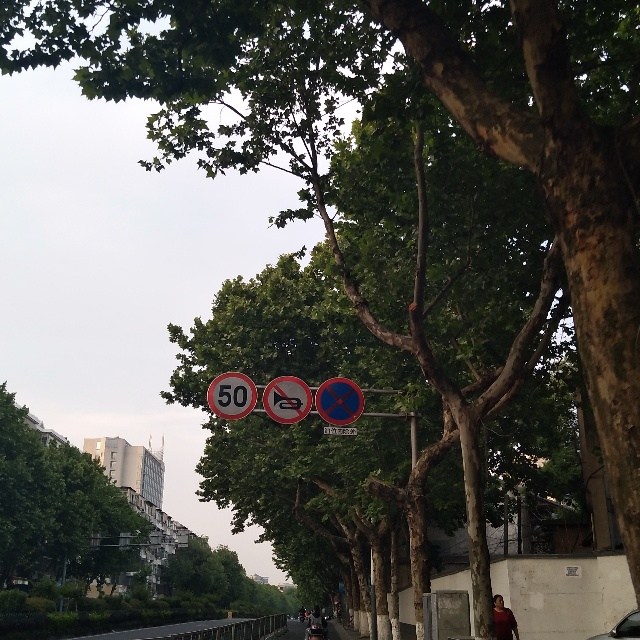nohonk: (264, 377, 309, 419)
stop: (321, 383, 360, 422)
